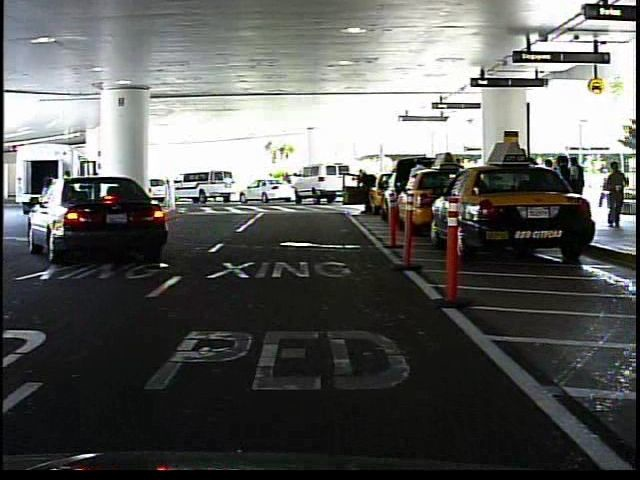person: (604, 159, 631, 228), (355, 163, 378, 219), (282, 169, 293, 198), (266, 172, 276, 179)
